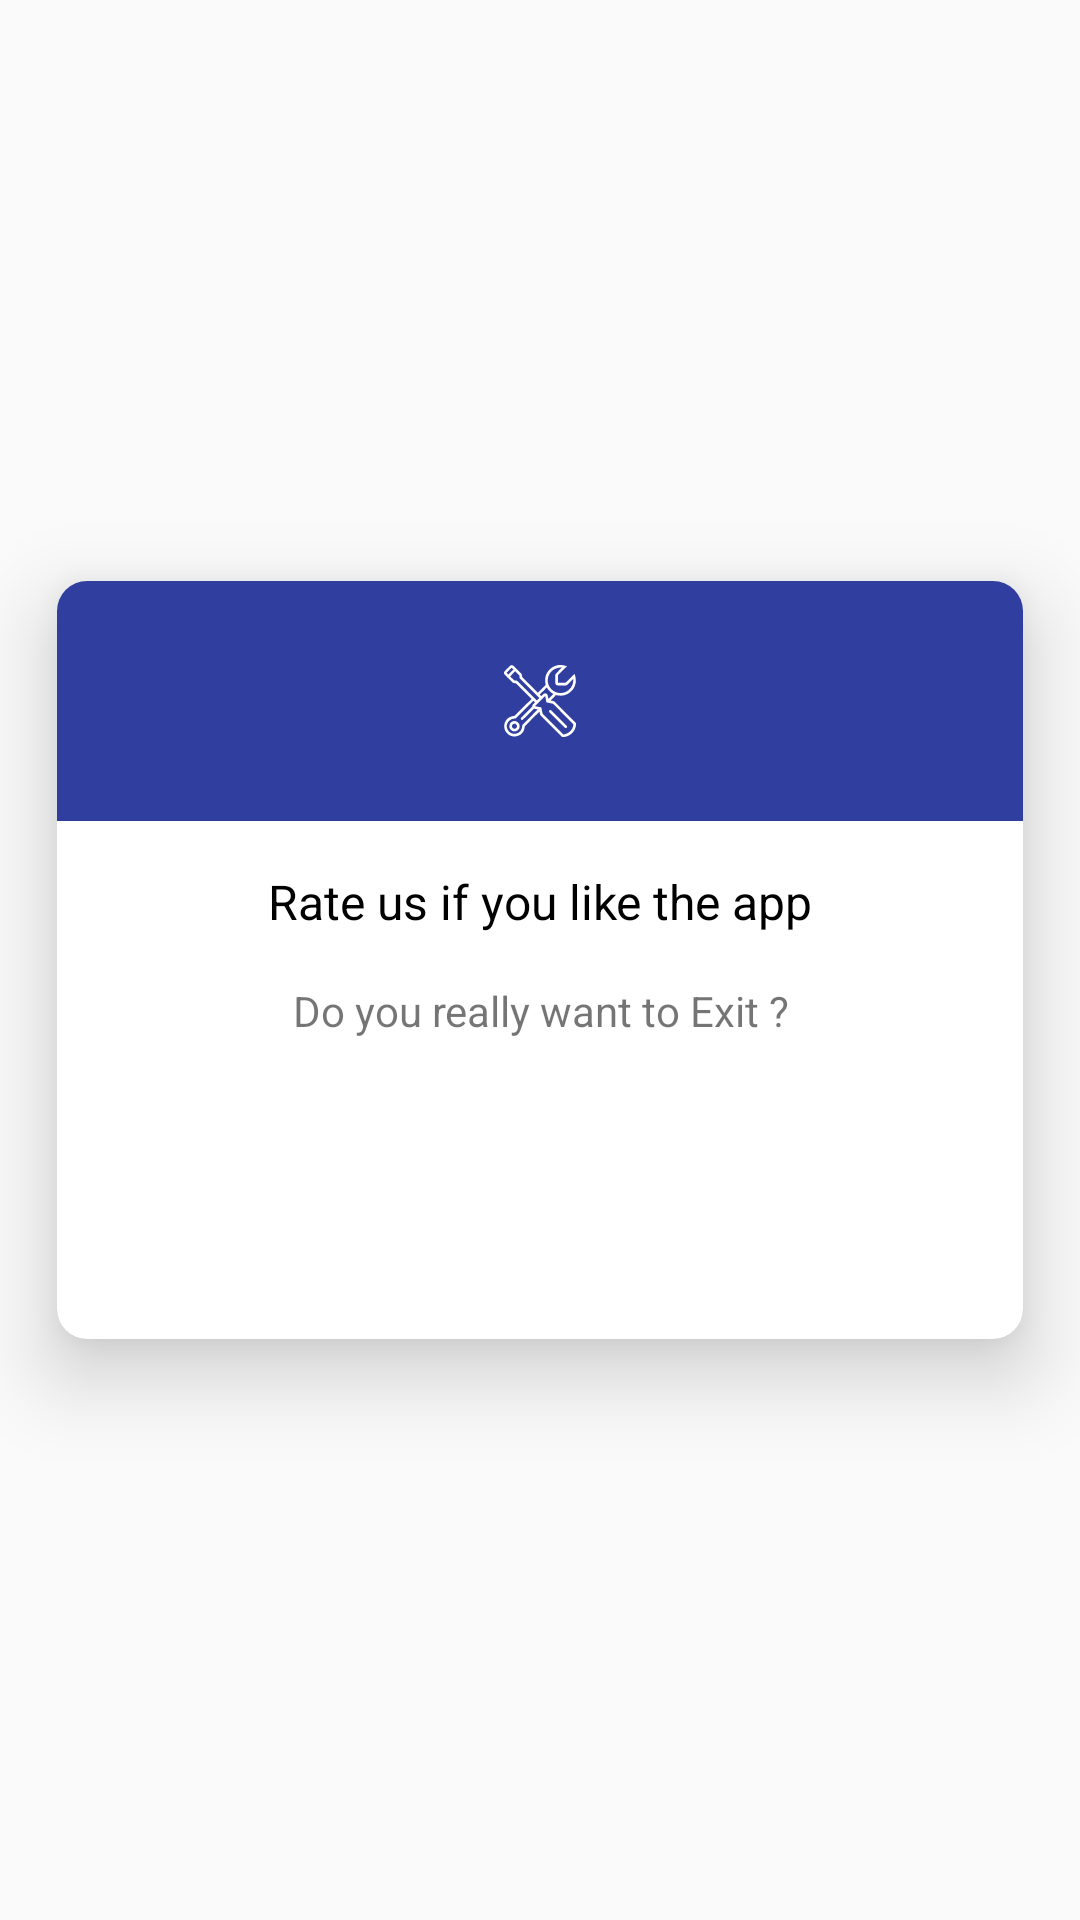

Icons on this 1080×1920 Android screen, each with its box as bbox=[x1, y1, x2, y2]:
matainance: bbox=[504, 665, 576, 737]
